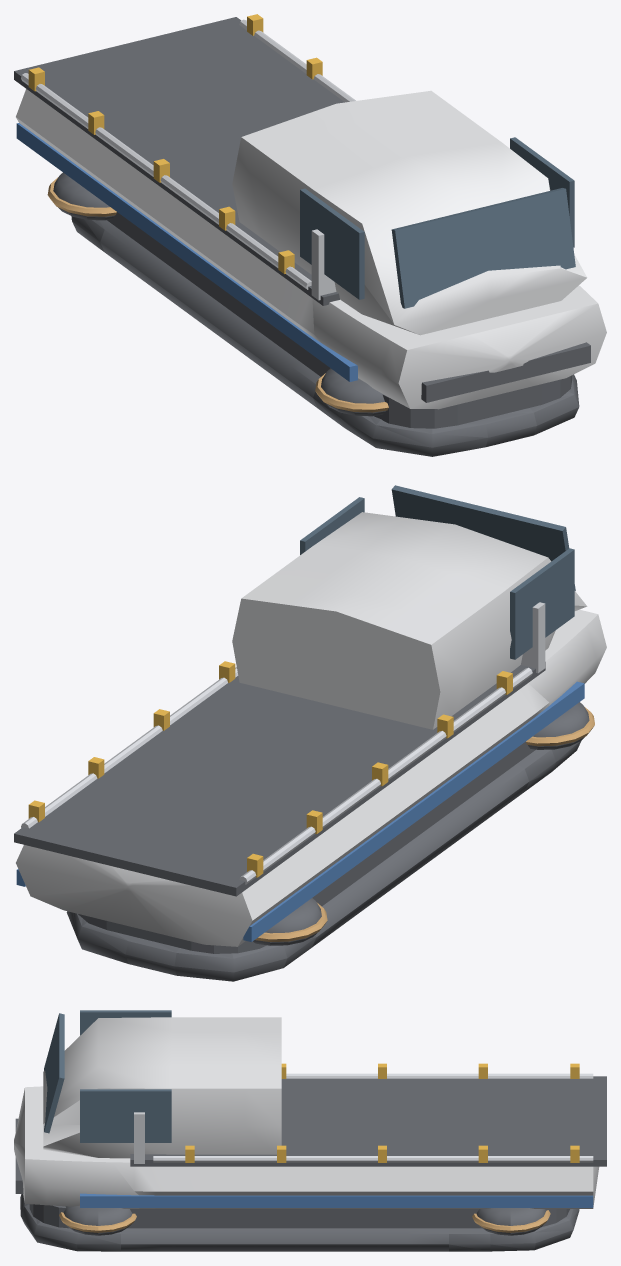
The model's file is hover-transit-and-antigrav-fleet-cargo-skiff-ca0573f0__17080.glb.
3 renders of one model, top to bottom at view 1: azimuth 30°, elevation 25°; view 2: azimuth 150°, elevation 25°; view 3: azimuth 270°, elevation 25°, orthographic. The views are drawn at different scales.
Visible parts, largest first — view 1: cargo-skiff; view 2: cargo-skiff; view 3: cargo-skiff.
Part boxes in pixels (x1,y1,x2,y2): cargo-skiff: [14, 14, 606, 456]; cargo-skiff: [14, 485, 606, 981]; cargo-skiff: [14, 1010, 606, 1251].
Size of the model in its own units: 2.59 by 2.06 by 6.47.
